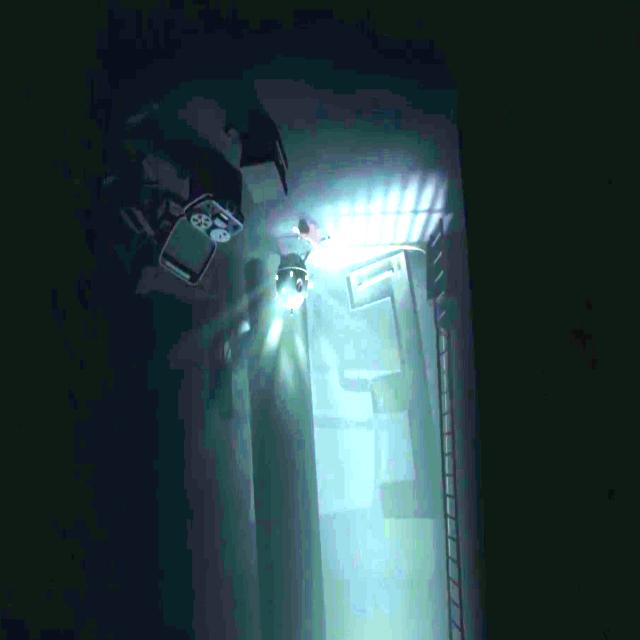boy: (292, 219, 330, 248)
